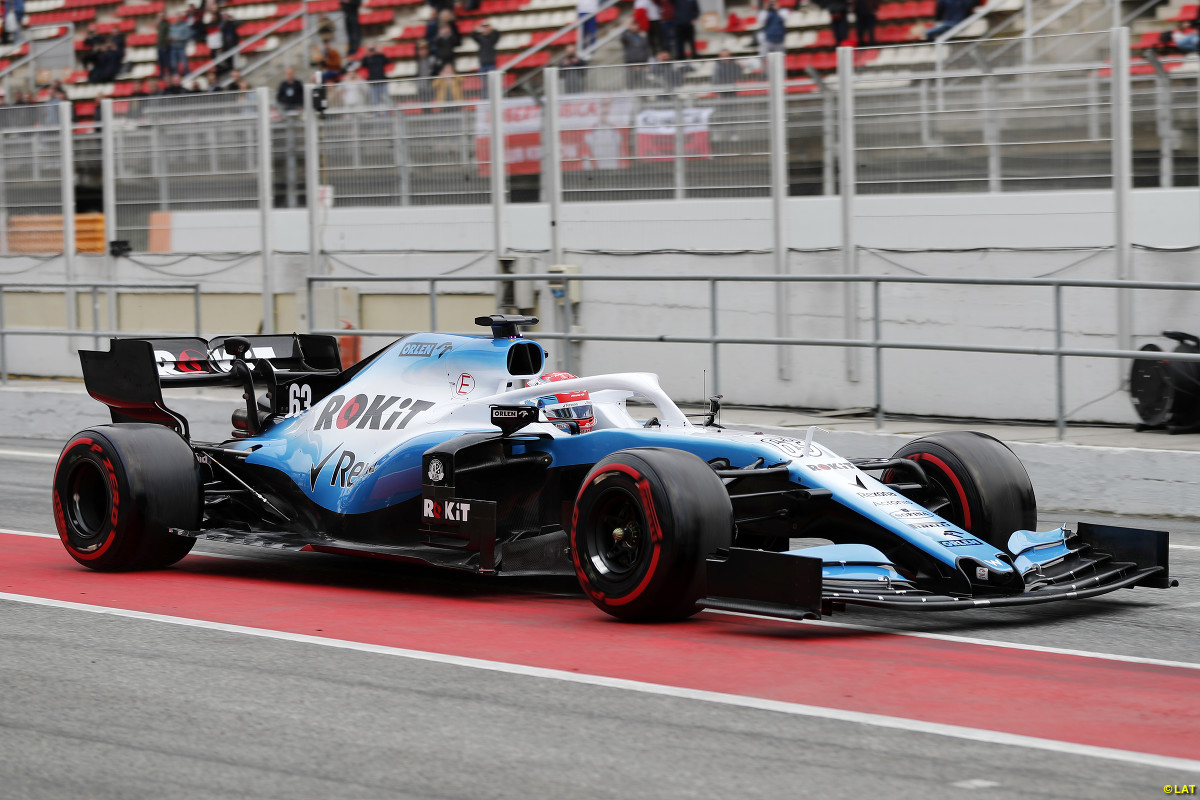F1 Car: (28, 303, 1190, 644)
